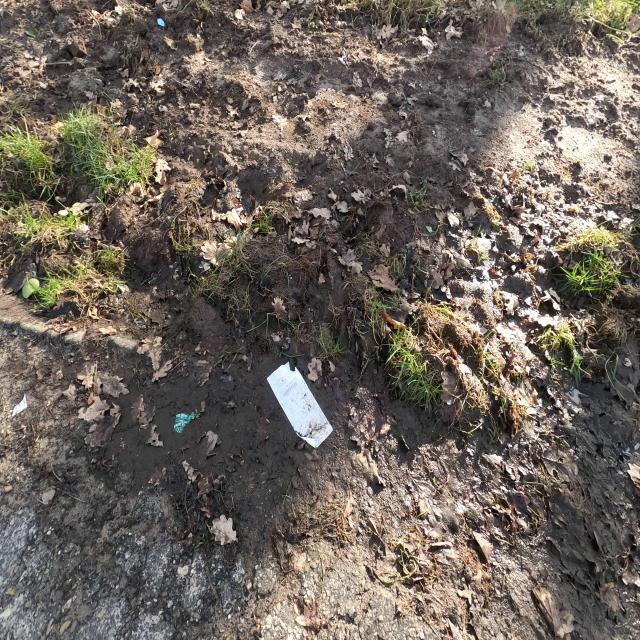Paper: (266, 360, 334, 450)
Plastic: (172, 410, 195, 434)
